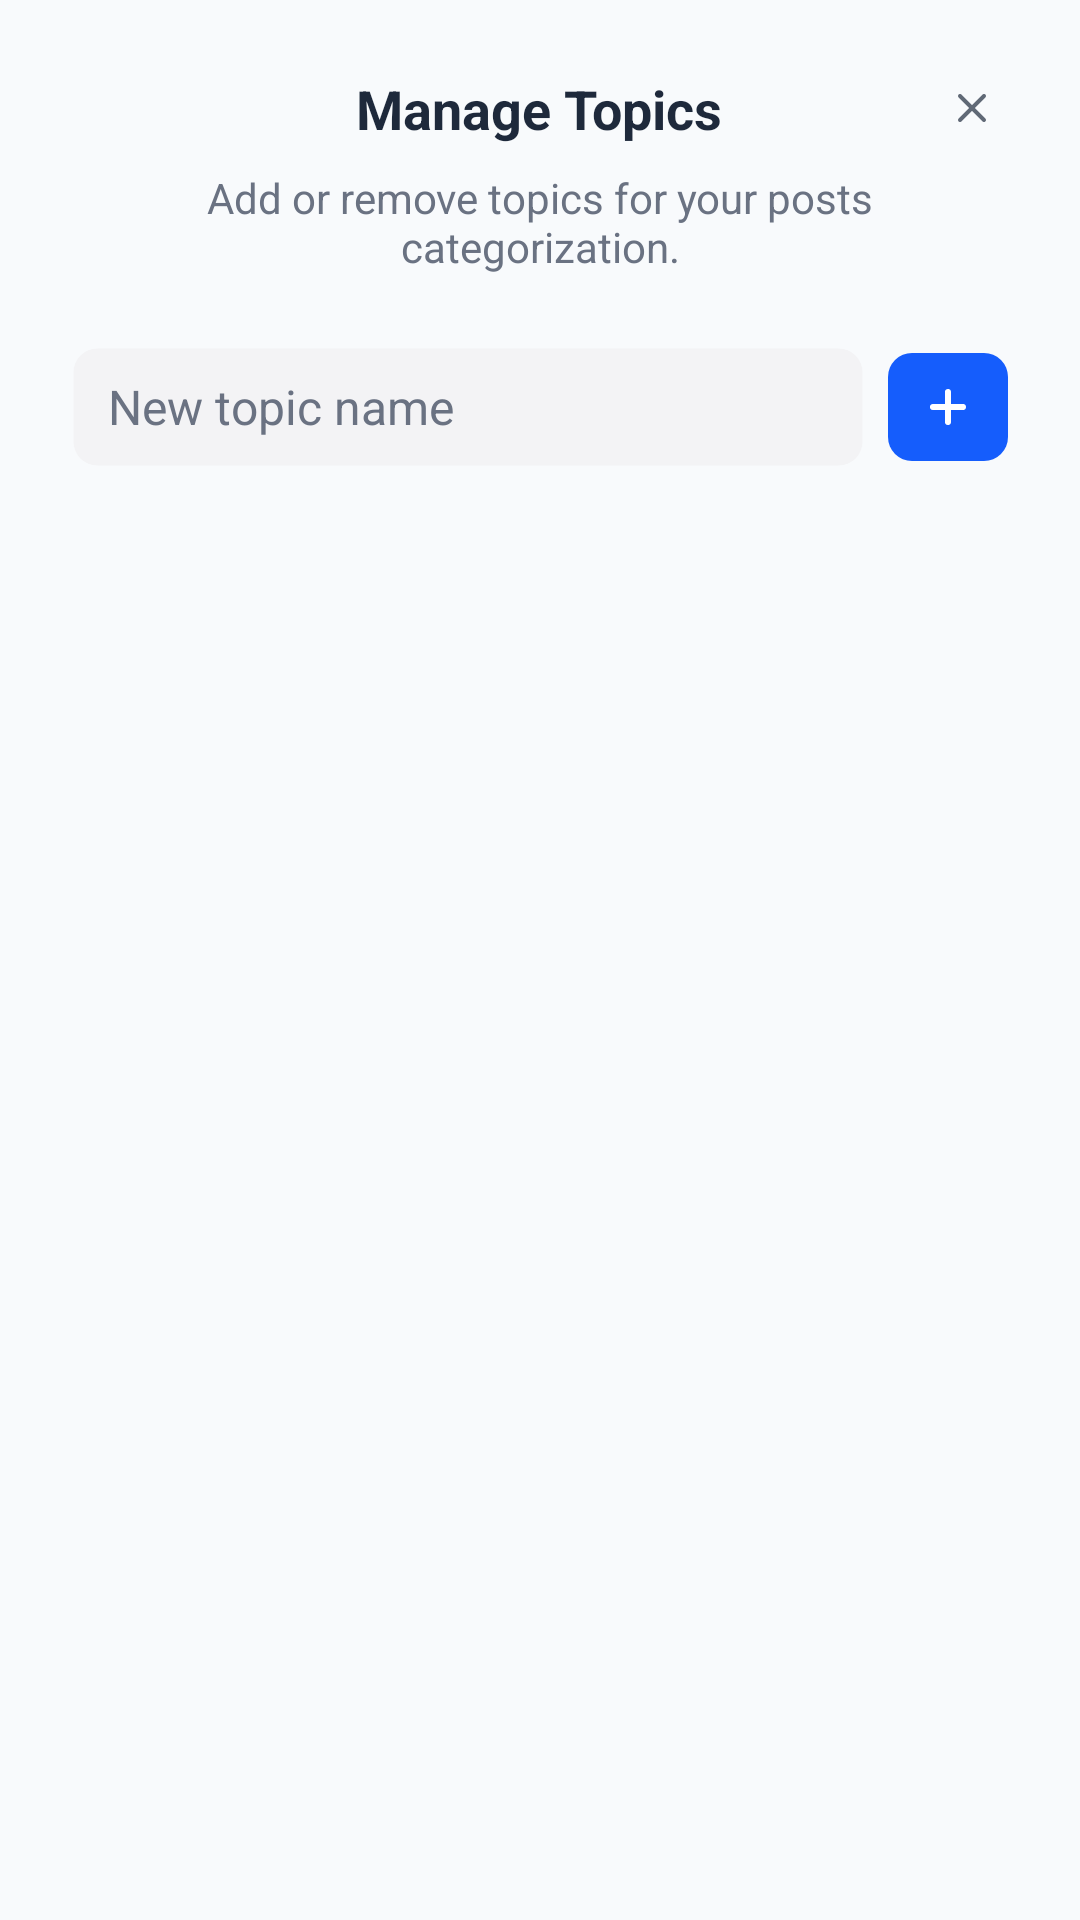

Point at icon controls on the screen. Image size 1080*1920, points as point (x, y).
Close: point (972, 108)
plus: point (948, 407)
